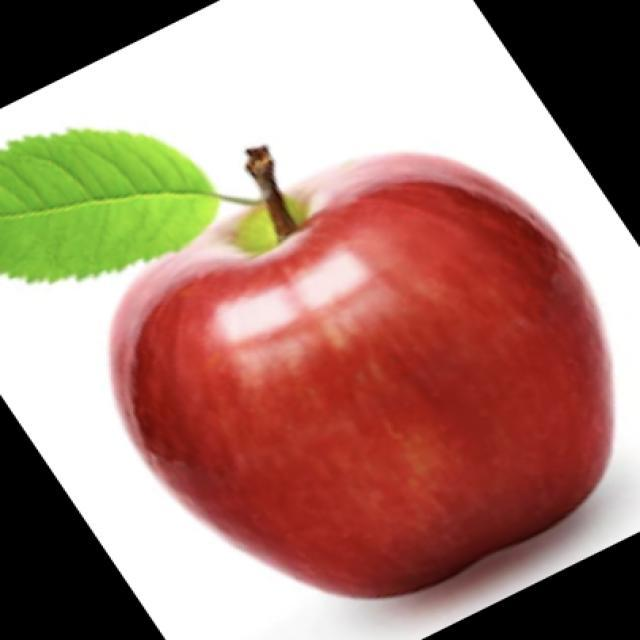Fresh Apple: (108, 147, 618, 603)
